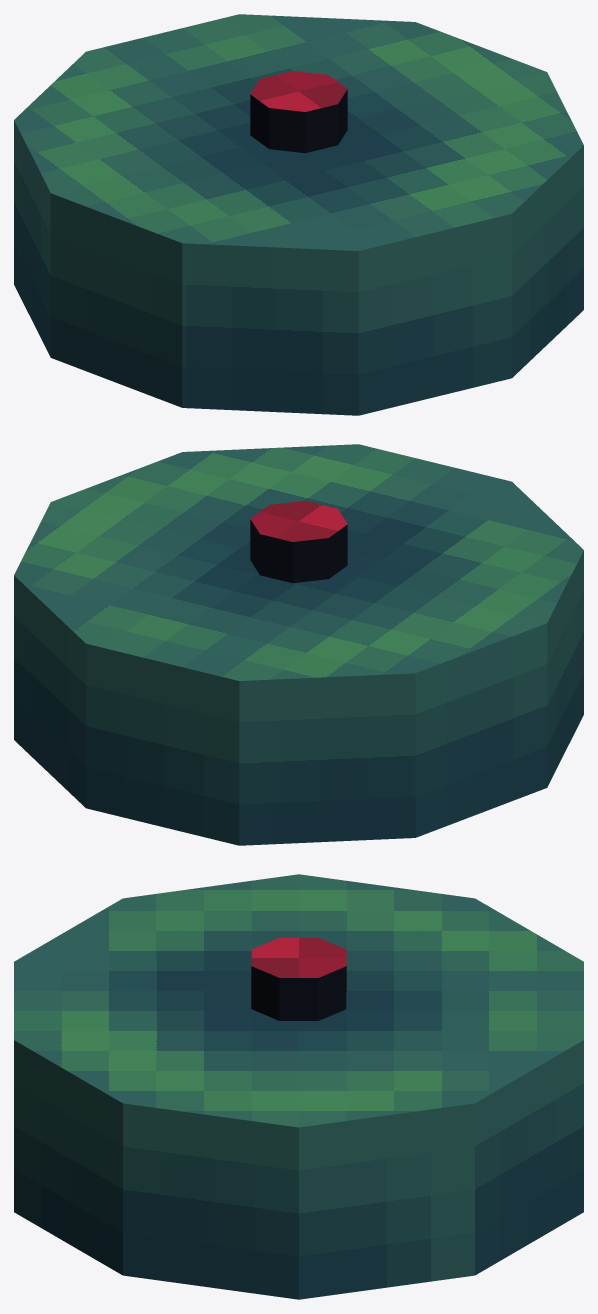
Rendered from mine.obj.
3 renders of one model, top to bottom at view 1: azimuth 30°, elevation 25°; view 2: azimuth 150°, elevation 25°; view 3: azimuth 270°, elevation 25°, orthographic. The views are drawn at different scales.
Visible parts, largest first — view 1: cylinder; view 2: cylinder; view 3: cylinder.
Part boxes in pixels (<box>): cylinder: <box>14,14,583,415</box>; cylinder: <box>14,444,583,845</box>; cylinder: <box>14,874,583,1299</box>.
Size of the model in its own units: 0.7886 by 0.3125 by 0.75.
Materials: 1 (1 with a texture image).
